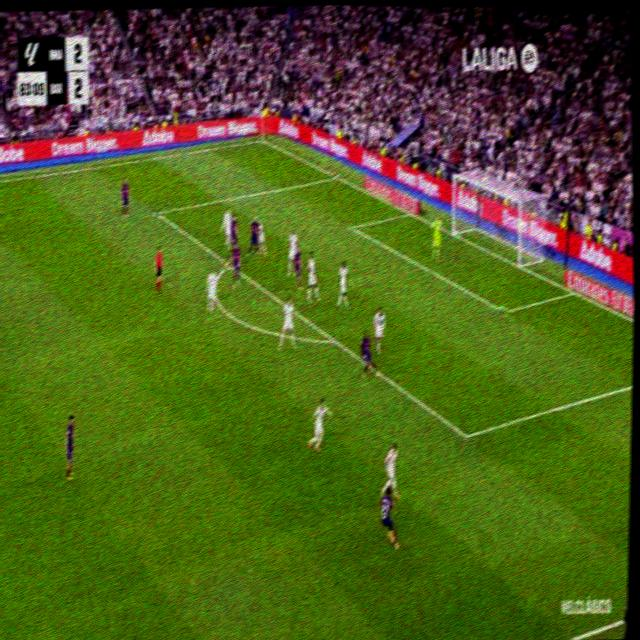bigarea_bottom_inner: (458, 419, 473, 450)
bigarea_top_inner: (152, 202, 162, 220)
bigarea_top_outter: (331, 168, 340, 182)
bottom_arc_area_intersection: (328, 330, 338, 348)
corner: (256, 133, 267, 145)
smallarea_bottom_inner: (498, 300, 509, 321)
smallarea_top_inner: (346, 218, 356, 235)
top_arc_area_intersection: (223, 254, 233, 271)
